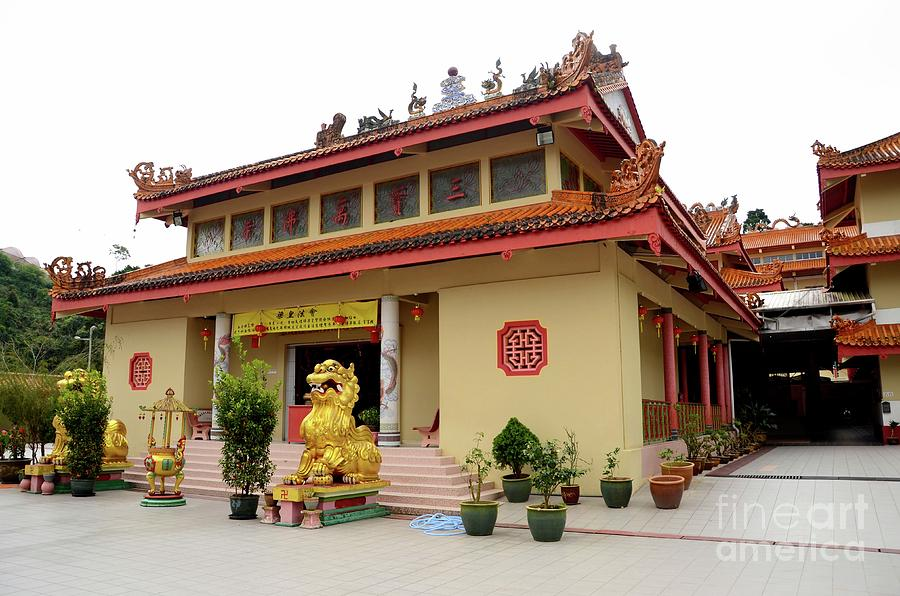Buddhist Temple: (91, 53, 687, 464)
